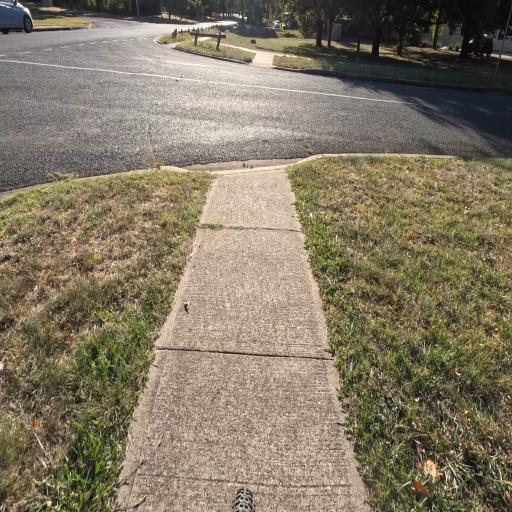kerb_cut: (214, 153, 286, 191)
